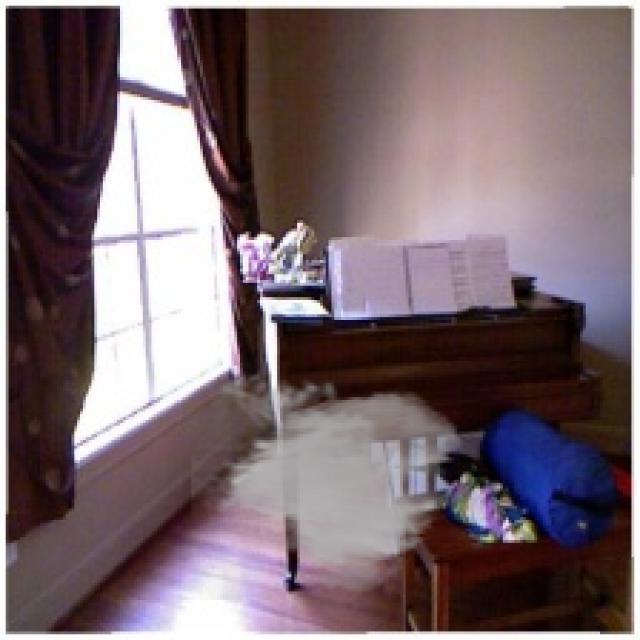smoke: (191, 366, 466, 600)
